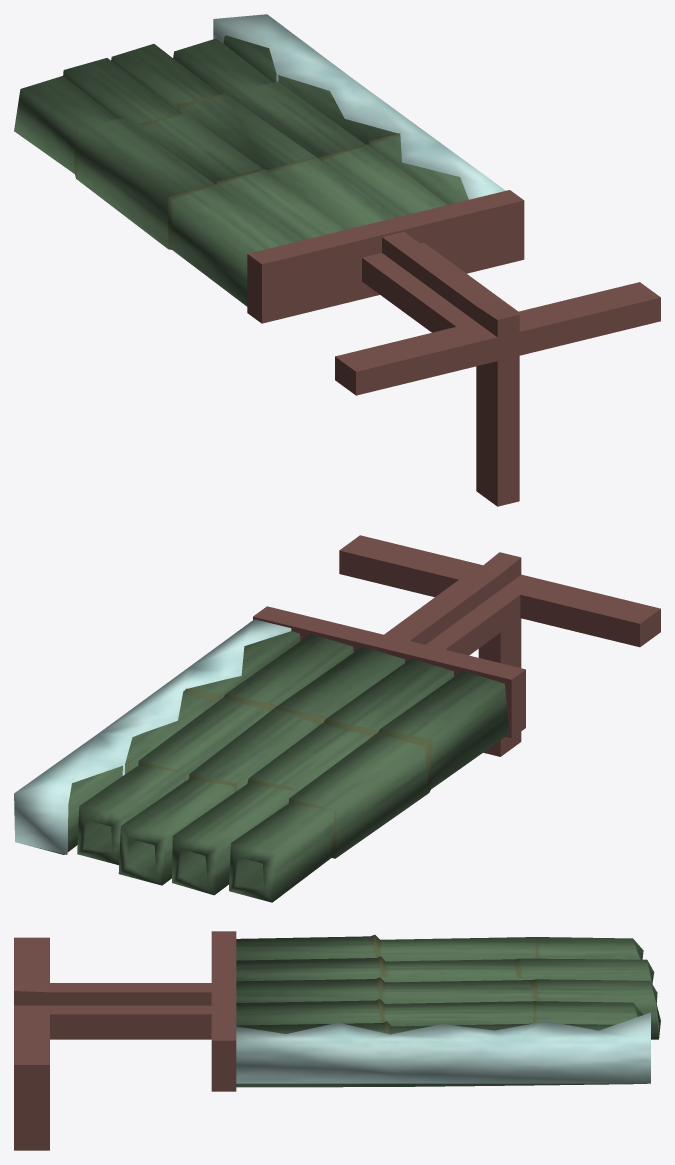
Rendered from bamboo_protectedL_mid_5.glb.
3 renders of one model, top to bottom at view 1: azimuth 30°, elevation 25°; view 2: azimuth 150°, elevation 25°; view 3: azimuth 270°, elevation 25°, orthographic. The views are drawn at different scales.
Visible parts, largest first — view 1: Obstacle.007, Stand.007; view 2: Obstacle.007, Stand.007; view 3: Obstacle.007, Stand.007.
Part boxes in pixels (left/top/right/bottom): Obstacle.007: left=14, top=14, right=505, bottom=306; Stand.007: left=247, top=190, right=660, bottom=506; Obstacle.007: left=14, top=619, right=509, bottom=902; Stand.007: left=253, top=535, right=660, bottom=756; Obstacle.007: left=236, top=934, right=660, bottom=1087; Stand.007: left=14, top=931, right=236, bottom=1150.
Size of the model in its own units: 1.22 by 0.7389 by 2.61.
2 materials, 1 textured.
